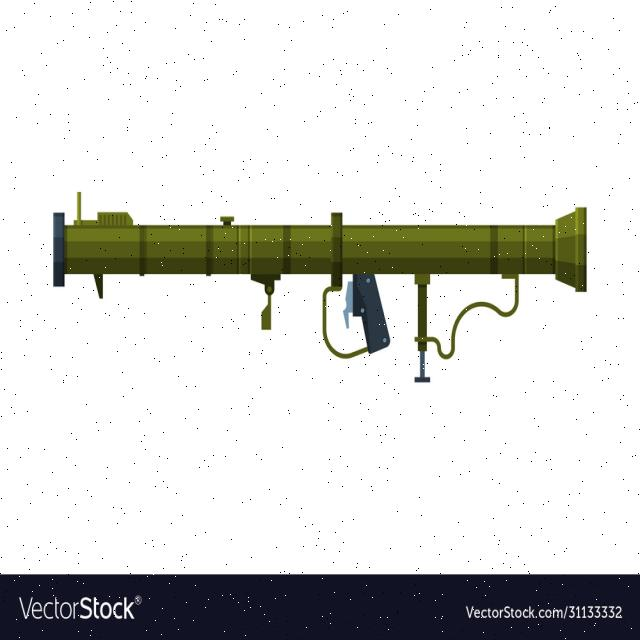bazooka: (45, 187, 600, 396)
